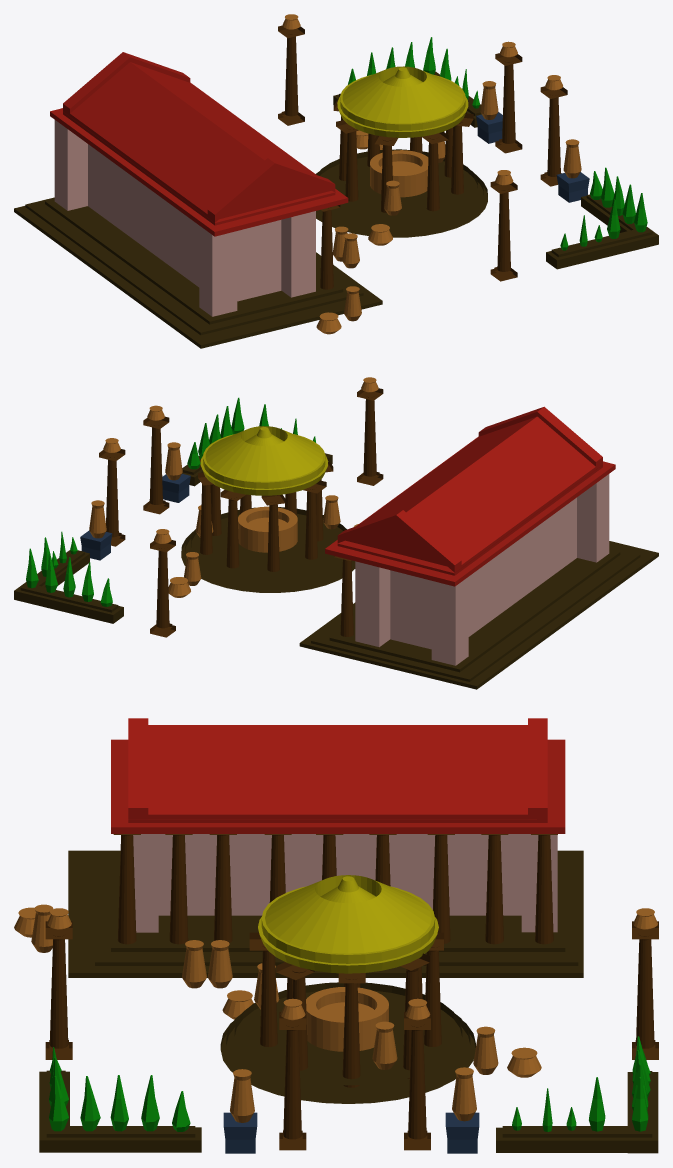
File: exterior.glb
3 views of the same model, one above another, from view 1: azimuth 30°, elevation 25°; view 2: azimuth 150°, elevation 25°; view 3: azimuth 270°, elevation 25° (orthographic). The views are drawn at different scales.
Parts seen in each view (by area): view 1: Cube.006, Cube.005, Cube.003, Cylinder.044, Cylinder.051, Cylinder.056, Cylinder.037, Cylinder.060, Cube.009; view 2: Cube.006, Cube.005, Cube.003, Cylinder.044, Cylinder.051, Cylinder.056, Cylinder.037, Cylinder.060, Cube.009; view 3: Cube.006, Cube.005, Cylinder.044, Cube.003, Cylinder.051, Cylinder.056, Cylinder.037, Cylinder.060, Cube.009.
Boxes of the visible parts, bbox=[...] form: Cube.006: bbox=[50, 52, 348, 236]; Cube.005: bbox=[14, 71, 658, 348]; Cube.003: bbox=[54, 120, 315, 316]; Cylinder.044: bbox=[278, 25, 567, 289]; Cylinder.051: bbox=[337, 66, 468, 137]; Cylinder.056: bbox=[282, 14, 581, 334]; Cylinder.037: bbox=[348, 37, 647, 250]; Cylinder.060: bbox=[370, 150, 428, 197]; Cube.009: bbox=[476, 112, 589, 202]; Cube.006: bbox=[325, 406, 615, 586]; Cube.005: bbox=[14, 453, 658, 689]; Cube.003: bbox=[355, 474, 609, 665]; Cylinder.044: bbox=[99, 388, 383, 637]; Cylinder.051: bbox=[200, 426, 328, 495]; Cylinder.056: bbox=[89, 377, 378, 597]; Cylinder.037: bbox=[26, 397, 315, 606]; Cylinder.060: bbox=[238, 506, 297, 552]; Cube.009: bbox=[80, 473, 190, 560]; Cube.006: bbox=[111, 718, 565, 833]; Cube.005: bbox=[39, 850, 658, 1153]; Cylinder.044: bbox=[45, 834, 658, 1150]; Cube.003: bbox=[133, 834, 557, 932]; Cylinder.051: bbox=[258, 875, 438, 973]; Cylinder.056: bbox=[14, 904, 657, 1122]; Cylinder.037: bbox=[49, 1036, 650, 1131]; Cylinder.060: bbox=[306, 987, 388, 1051]; Cube.009: bbox=[223, 1112, 479, 1153].
Size of the model in its own units: 96.72 by 30.28 by 87.47.
